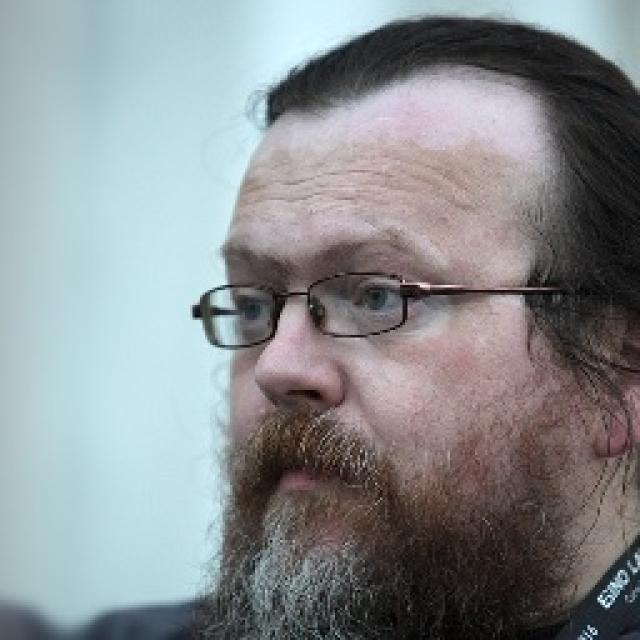glasses: (193, 268, 437, 351)
